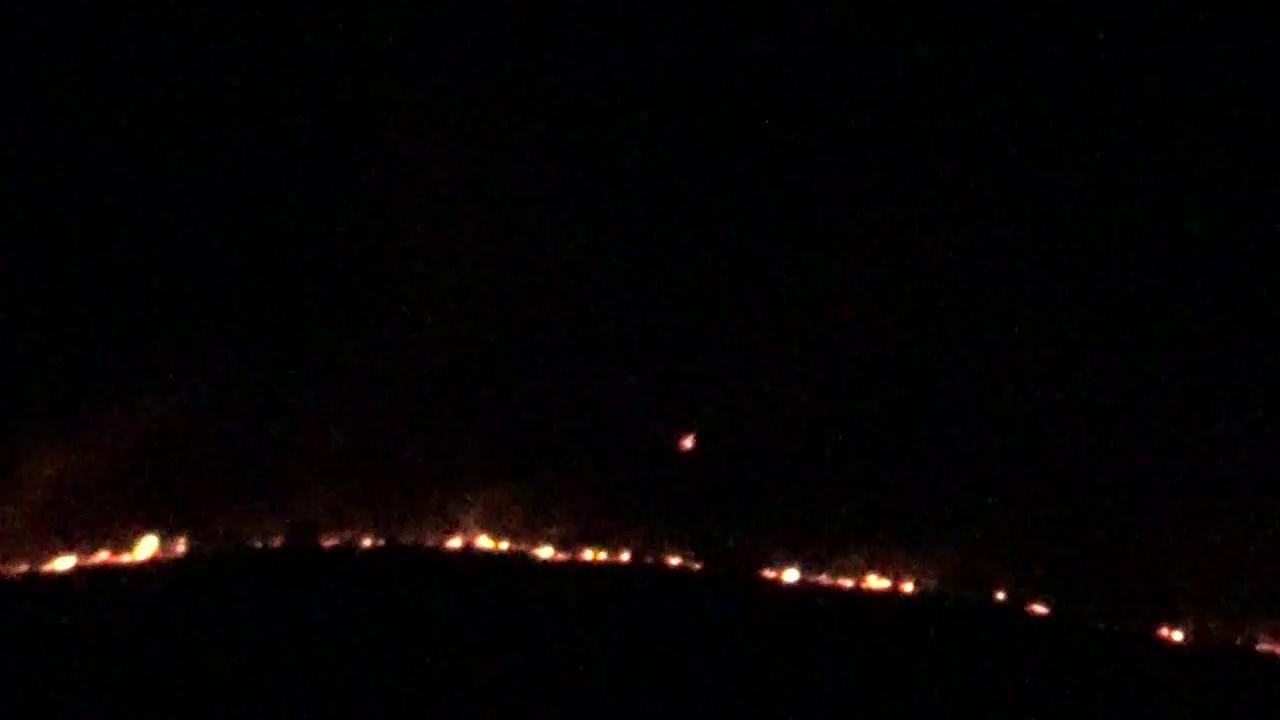fire: (449, 531, 698, 572), (9, 521, 187, 577), (758, 564, 920, 595), (323, 534, 381, 550), (1159, 623, 1181, 644), (677, 431, 698, 452), (1030, 604, 1048, 615)
